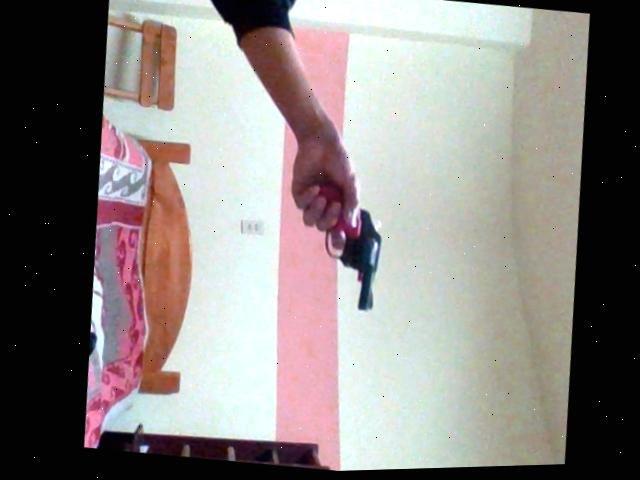pistol: (218, 114, 428, 365)
